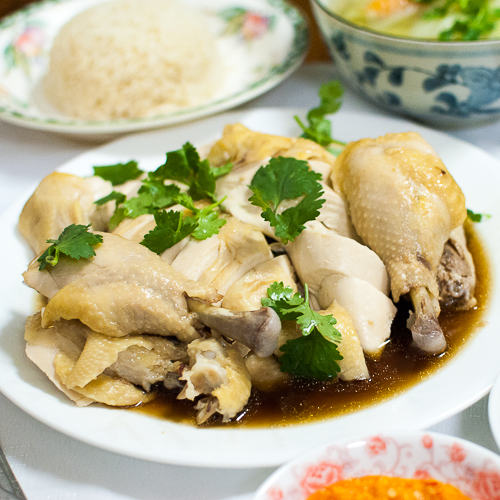Steamed Chicken Rice: (15, 128, 476, 394)
